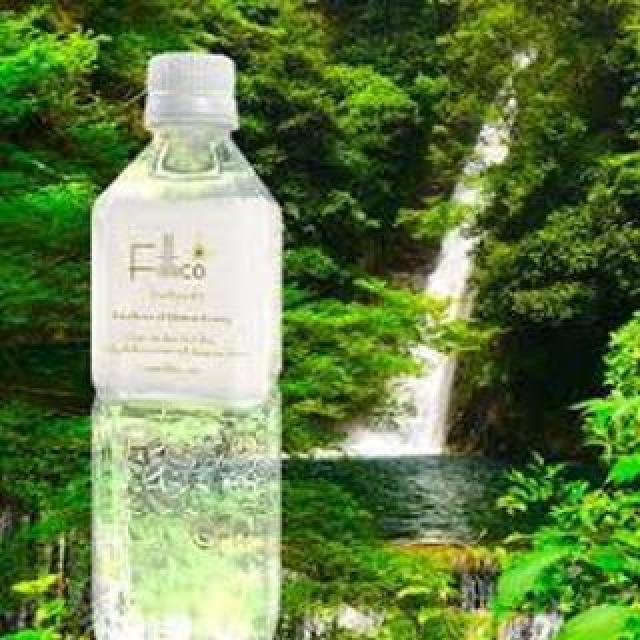Pet_Bottle: (82, 52, 292, 640)
